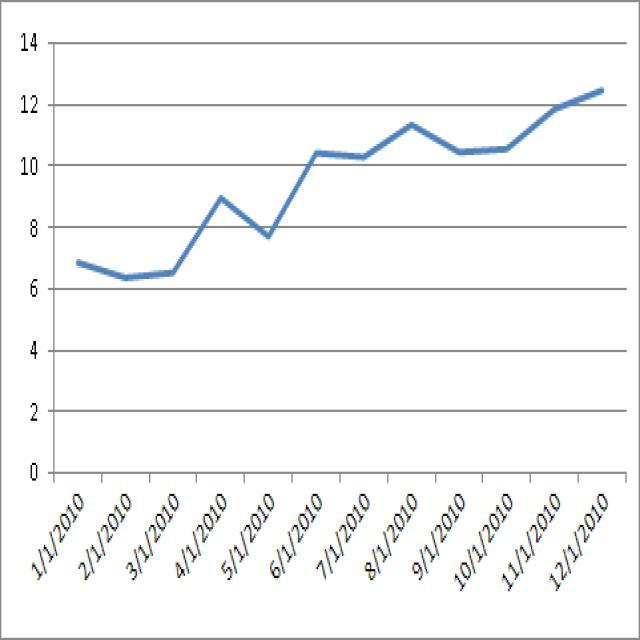axis: (42, 468, 640, 485), (41, 35, 59, 489)
line: (73, 82, 609, 285)
